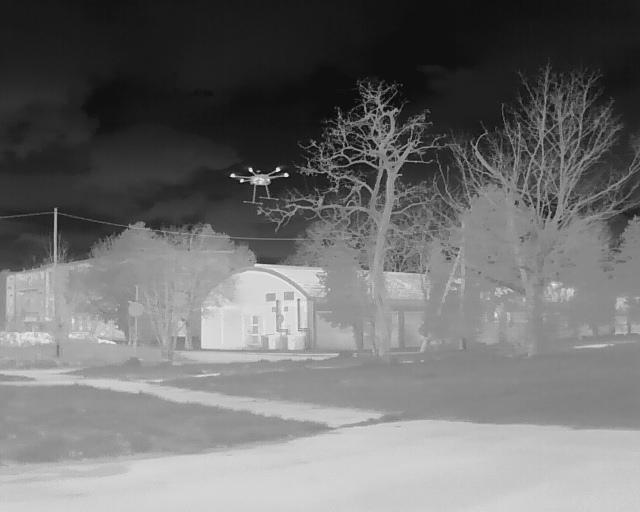drone: (223, 158, 297, 207)
